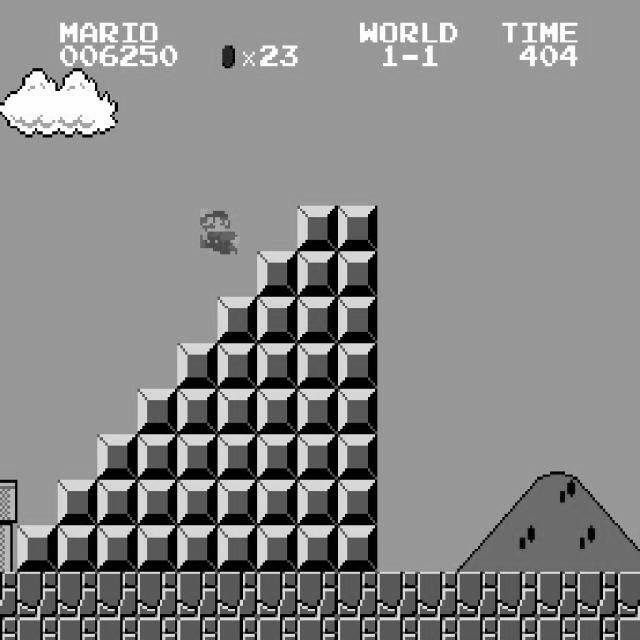11- little_mario: (197, 206, 240, 254)
14- pipe: (0, 525, 17, 571)
15- pipe_head: (0, 480, 17, 525)
17- undestructible_block: (17, 572, 58, 618), (57, 572, 98, 618), (97, 572, 138, 618), (137, 572, 178, 618), (177, 572, 218, 618), (217, 572, 258, 618), (257, 572, 298, 618), (297, 572, 338, 618), (337, 572, 378, 618), (377, 572, 418, 618), (417, 572, 458, 618), (457, 572, 498, 618), (497, 572, 538, 618), (537, 572, 578, 618), (577, 572, 618, 618), (618, 572, 640, 618), (17, 617, 58, 640), (57, 617, 98, 640), (97, 617, 138, 640), (137, 617, 178, 640), (177, 617, 218, 640), (217, 617, 258, 640), (257, 617, 298, 640), (297, 617, 338, 640), (337, 617, 378, 640), (377, 617, 418, 640), (417, 617, 458, 640), (457, 617, 498, 640), (497, 617, 538, 640), (537, 617, 578, 640), (577, 617, 618, 640), (0, 571, 17, 617), (618, 617, 640, 640), (0, 617, 17, 639)
9- hard_block: (17, 526, 58, 572), (57, 480, 98, 526), (57, 526, 98, 572), (97, 434, 138, 480), (97, 480, 138, 526), (97, 526, 138, 572), (137, 388, 178, 434), (137, 434, 178, 480), (137, 480, 178, 526), (137, 526, 178, 572), (177, 388, 218, 434), (177, 434, 218, 480), (177, 480, 218, 526), (177, 526, 218, 572), (217, 297, 258, 343), (217, 388, 258, 434), (217, 434, 258, 480), (217, 480, 258, 526), (217, 526, 258, 572), (257, 252, 298, 298), (257, 297, 298, 343), (257, 388, 298, 434), (257, 434, 298, 480), (257, 480, 298, 526), (257, 526, 298, 572), (297, 252, 338, 298), (297, 297, 338, 343), (297, 388, 338, 434), (297, 434, 338, 480), (297, 480, 338, 526), (297, 526, 338, 572), (337, 252, 378, 298), (337, 297, 378, 343), (337, 388, 378, 434), (337, 434, 378, 480), (337, 480, 378, 526), (337, 526, 378, 572), (177, 343, 218, 388), (217, 343, 258, 388), (257, 343, 298, 388), (297, 206, 338, 251), (297, 343, 338, 388), (337, 206, 378, 251), (337, 343, 378, 388)
